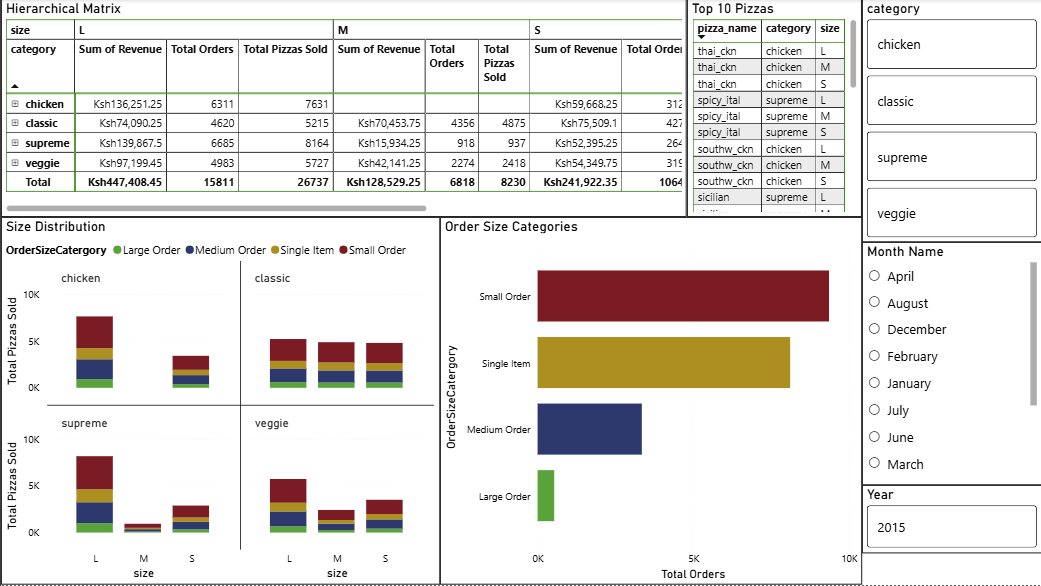

The page's visual inventory and layout, read from the dashboard file:
{"tool":"powerbi","page":{"name":"Page 2","canvas":[1280,720],"ordinal":1},"visuals":[{"type":"pivotTable","title":"Hierarchical Matrix ","fields":{"Rows":["Dim_Pizza.category","Dim_Pizza.pizza_name"],"Values":["Sum(Fact_Sales.Revenue)","Dim_Order.Total Orders","Fact_Sales.Total Pizzas Sold"],"Columns":["Dim_Pizza.size"]},"box":[0,0,843.5,268],"z":0},{"type":"actionButton","box":[0,0,100,40],"z":1000},{"type":"columnChart","title":"Size Distribution ","fields":{"Series":["Dim_Order.OrderSizeCatergory"],"Y":["Fact_Sales.Total Pizzas Sold"],"Rows":["Fact_Sales.category"],"Category":["Dim_Pizza.size"]},"box":[0,268,539.8,452.5],"z":2000},{"type":"clusteredBarChart","title":"Order Size Categories ","fields":{"Category":["Dim_Order.OrderSizeCatergory"],"Y":["Dim_Order.Total Orders"]},"box":[539.8,268,518.9,452.5],"z":3000},{"type":"tableEx","title":"Top 10 Pizzas ","fields":{"Values":["Dim_Pizza.pizza_name","Dim_Pizza.category","Fact_Sales.size"]},"box":[843.5,0,215.2,268],"z":4000},{"type":"advancedSlicerVisual","fields":{"Values":["Dim_Pizza.category"]},"box":[1058.3,0,221.7,299],"z":5000},{"type":"listSlicer","title":"Month Name","fields":{"Values":["Dim_Date.MonthName"]},"box":[1058.3,299,221.7,299],"z":6000},{"type":"advancedSlicerVisual","fields":{"Values":["Dim_Date.Year"]},"box":[1058.3,598,221.7,84],"z":7000}]}

Visuals, with their boxes in screenshot pixels (x1, y1, x2, y2), scaled from the page's 1280x720 canvas onto the 1041x586 screenshot:
"Hierarchical Matrix " pivotTable: <region>0, 0, 686, 218</region>
actionButton: <region>0, 0, 81, 33</region>
"Size Distribution " columnChart: <region>0, 218, 439, 585</region>
"Order Size Categories " clusteredBarChart: <region>439, 218, 861, 585</region>
"Top 10 Pizzas " tableEx: <region>686, 0, 861, 218</region>
advancedSlicerVisual - Dim_Pizza.category: <region>861, 0, 1040, 243</region>
"Month Name" listSlicer: <region>861, 243, 1040, 487</region>
advancedSlicerVisual - Dim_Date.Year: <region>861, 487, 1040, 555</region>
